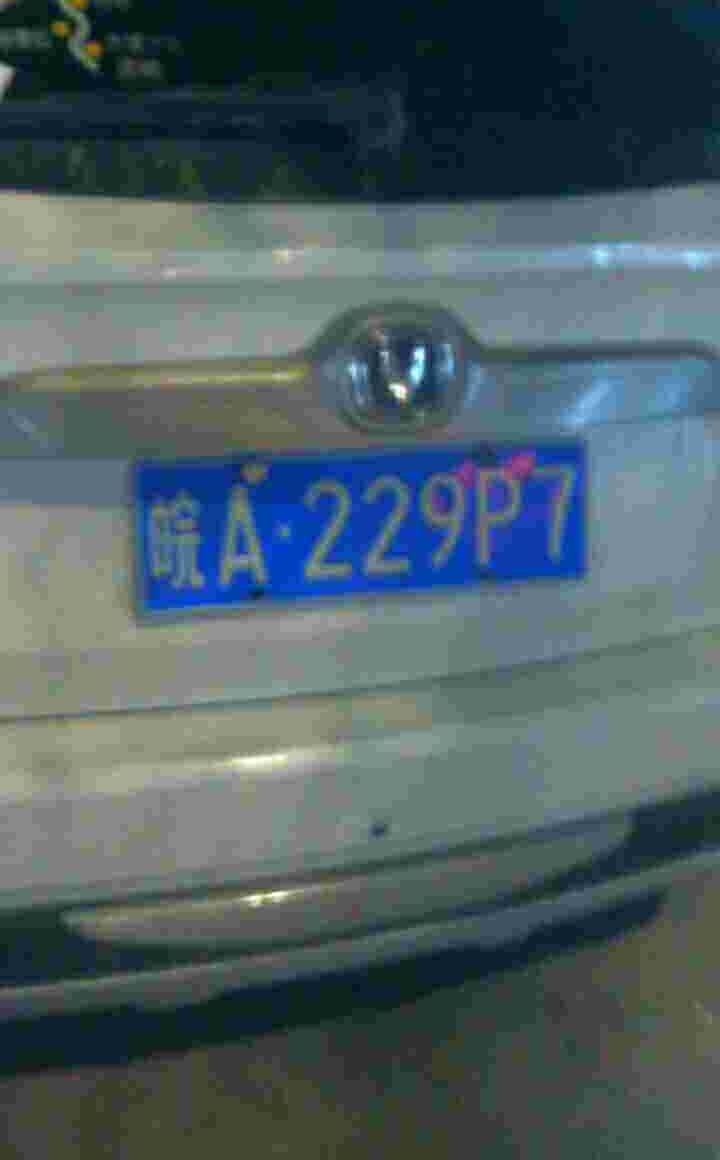license_plate: (131, 440, 593, 612)
